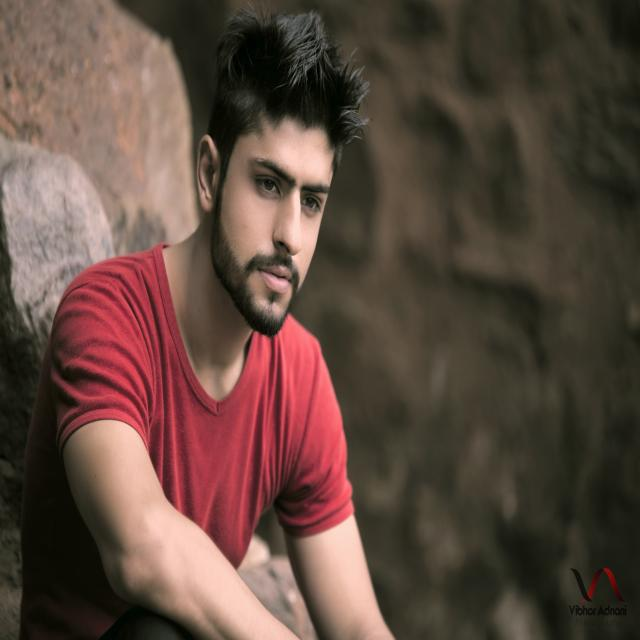human: (33, 4, 396, 640)
